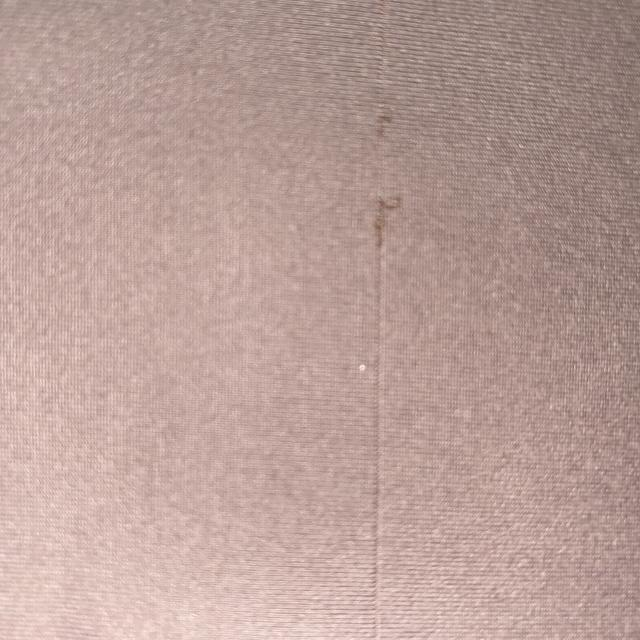Line: (374, 0, 403, 640)
